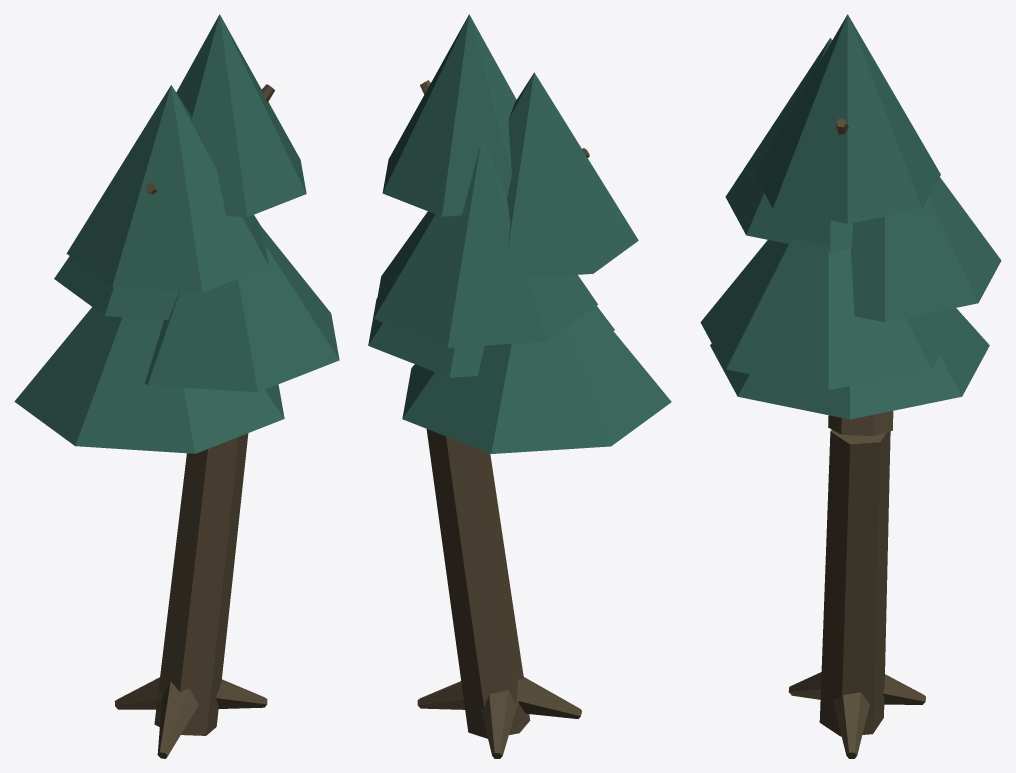
The model's file is map-boundaries-v5__ridge_09.glb.
3 views of the same model, side by side, from view 1: azimuth 30°, elevation 25°; view 2: azimuth 150°, elevation 25°; view 3: azimuth 270°, elevation 25° (orthographic). The views are drawn at different scales.
Parts seen in each view (by area): view 1: ridge_09; view 2: ridge_09; view 3: ridge_09.
Boxes of the visible parts, <box> form: ridge_09: <box>14,14,339,758</box>; ridge_09: <box>368,14,671,758</box>; ridge_09: <box>700,14,1001,758</box>.
Size of the model in its own units: 1.5 by 3.68 by 1.38.
